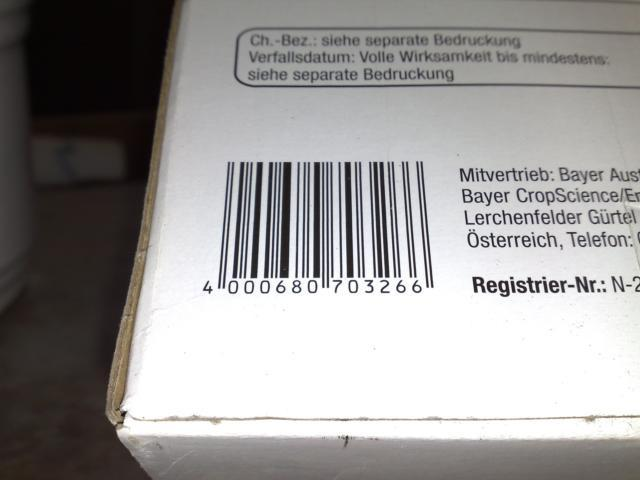Barcode: (194, 145, 450, 307)
